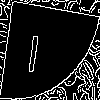I: (24, 24, 43, 73)
